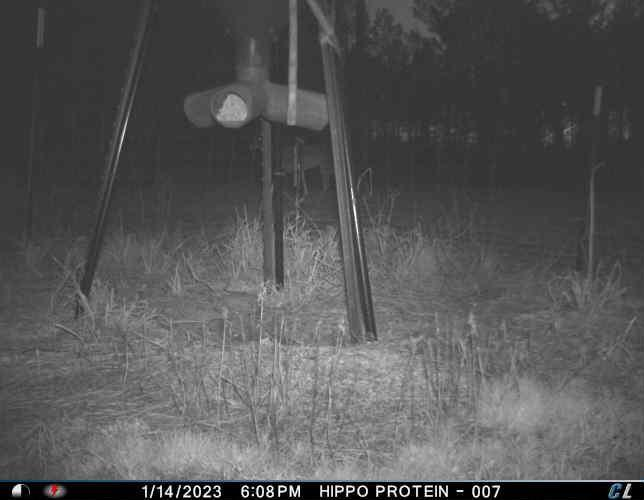Deer: (252, 128, 335, 199)
